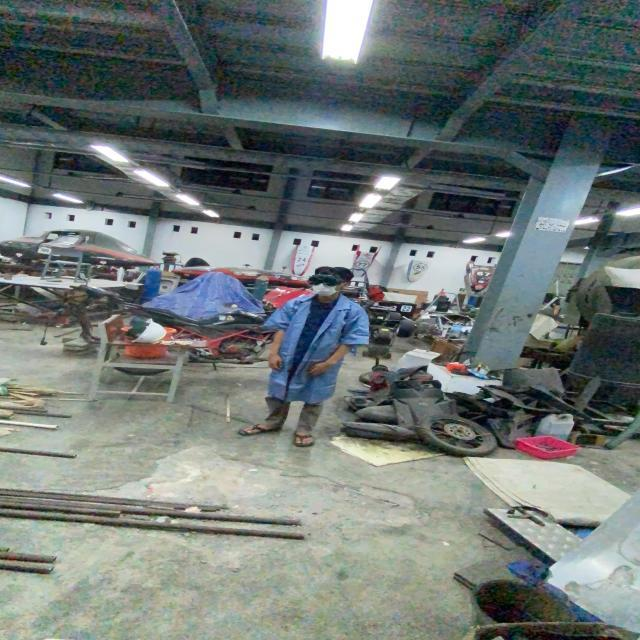glasses: (304, 274, 348, 286)
